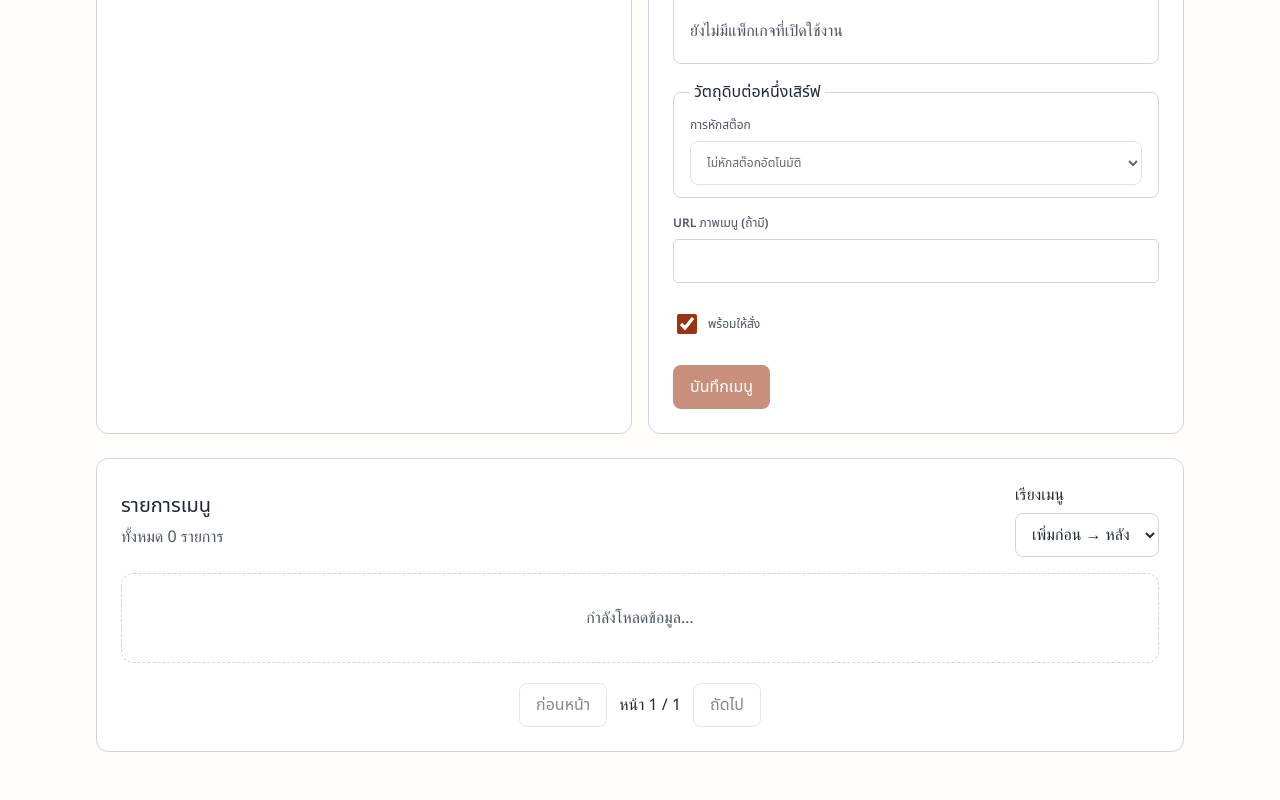
Test: keeps the latest sorted catalog when an older request completes last
This screenshot has width=1280, height=800.
(page scrolled)
Select "ชื่อ Z → A" in the dropdown labelled "เรียงเมนู" at [1087, 535], box 1015,513 -> 1159,557
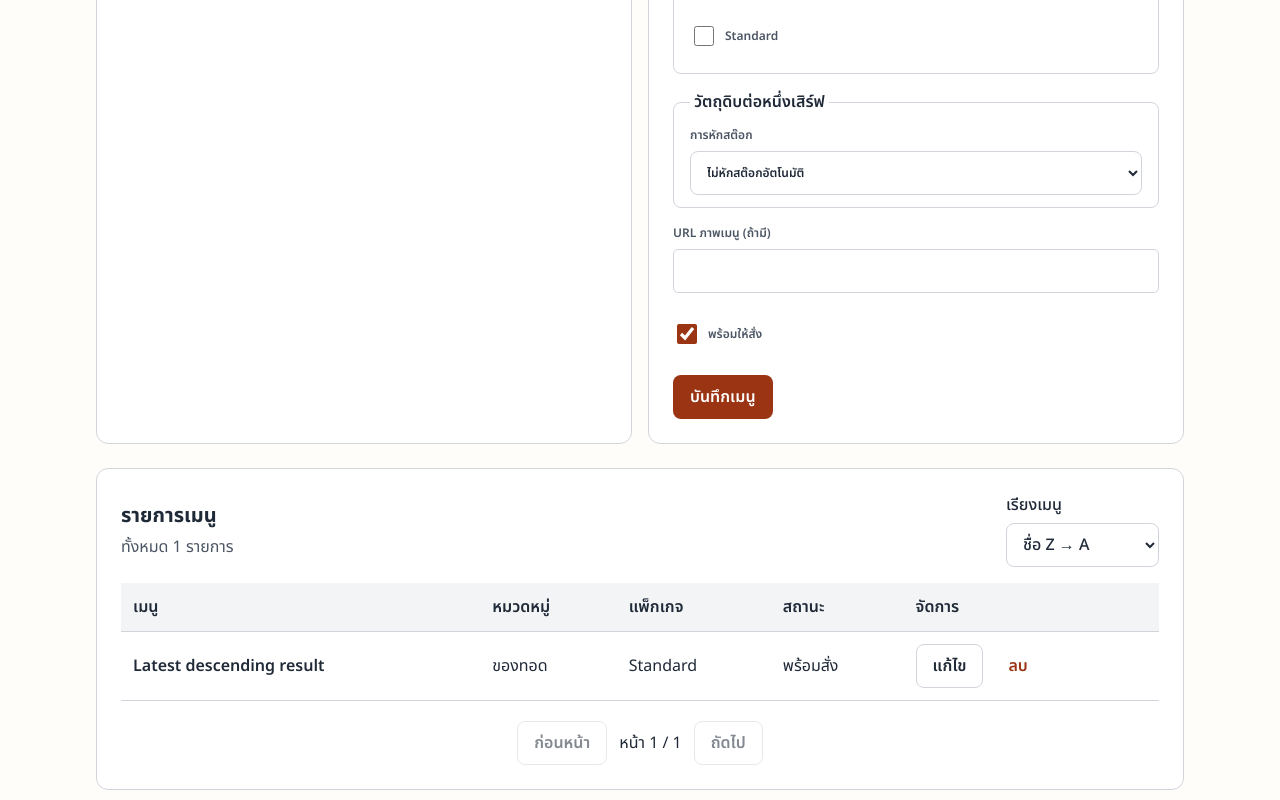
Result: the text "Latest descending result" is shown at 133,654 -> 324,678
